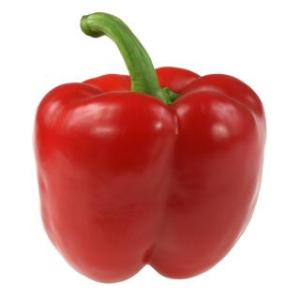bell_pepper: (34, 11, 266, 281)
